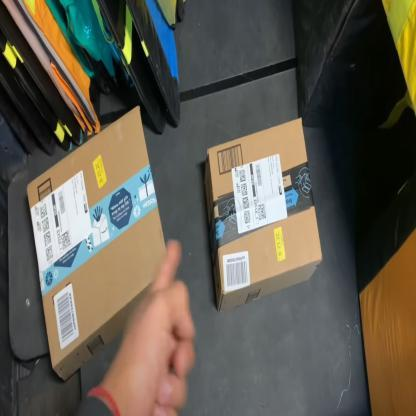package: (24, 100, 171, 384), (201, 115, 324, 320)
